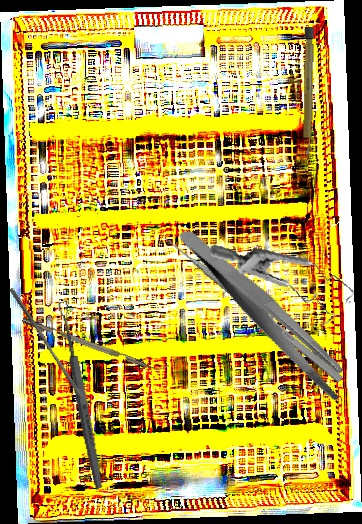Chopper: (21, 310, 170, 377)
Dressing Forceps: (178, 197, 354, 428)
Pusher: (154, 227, 344, 384), (4, 286, 88, 400)
Scalpel Handle: (301, 26, 315, 156)
Speculum: (209, 223, 359, 342)
Surgical Spoon: (56, 300, 106, 490)
